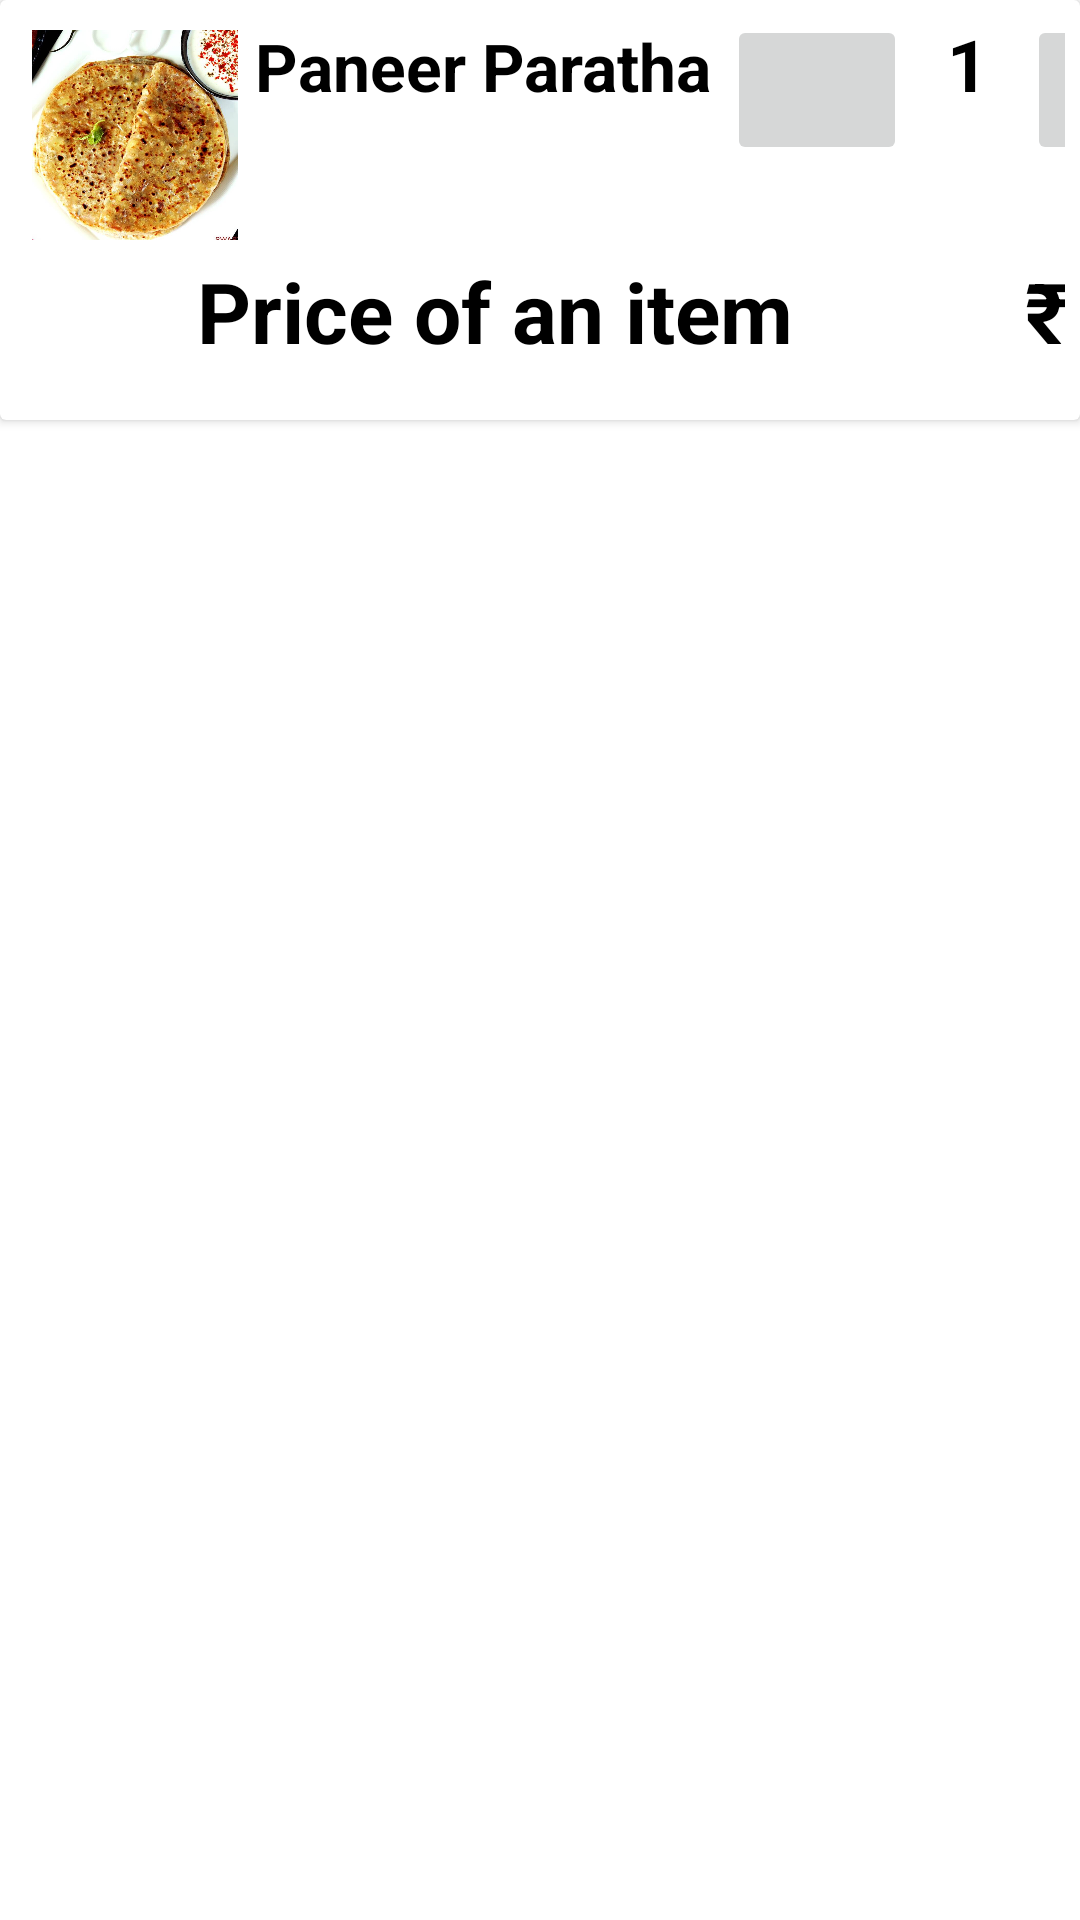

Icon bounding boxes for this 1080w x 1920h phone screenshot, format (x1, y1, x2, y2):
aalu: (32, 30, 238, 240)
